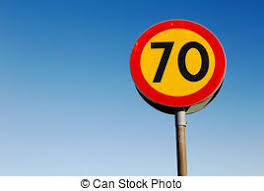Speed_limit_70km: (129, 19, 226, 109)
